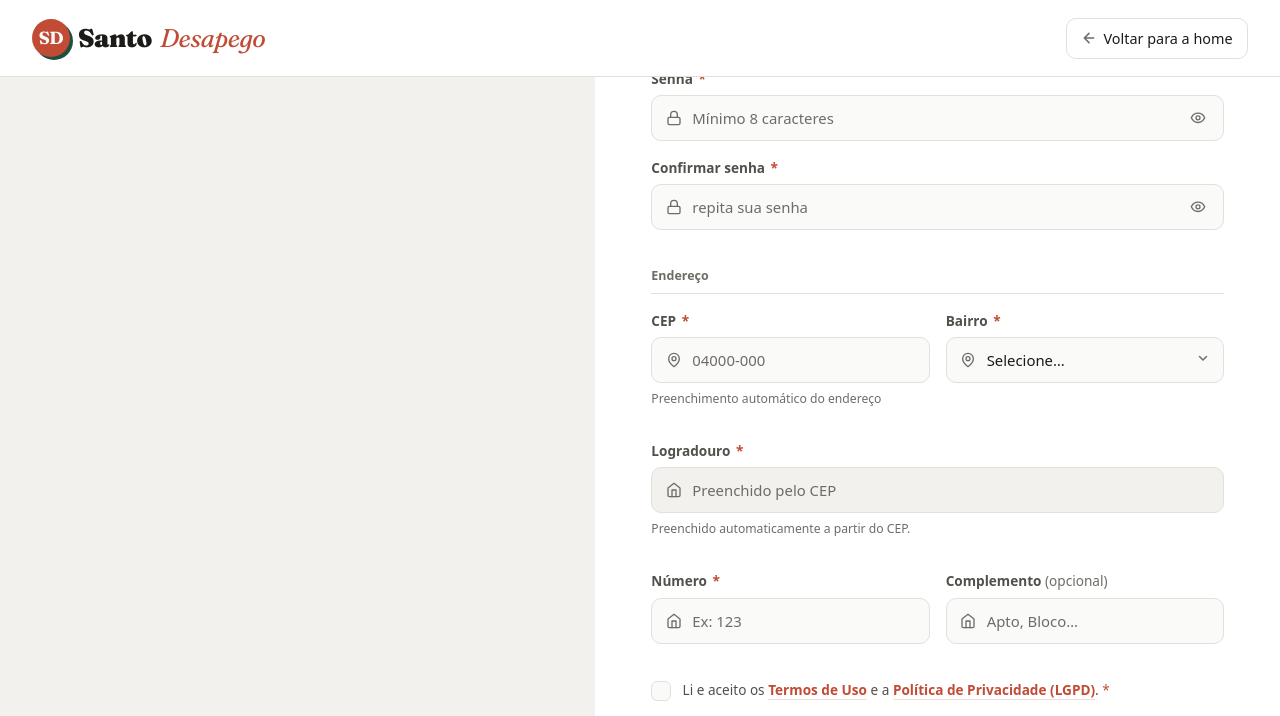
Test: RF01 - Gestão de Perfil Geográfico › CEP de Santo Amaro preenche o endereço e o bairro sozinho
(page scrolled)
Type "04710150" into the field with placeholder "04000-000" at (790, 360), box x1=651 y1=337 x2=930 y2=383
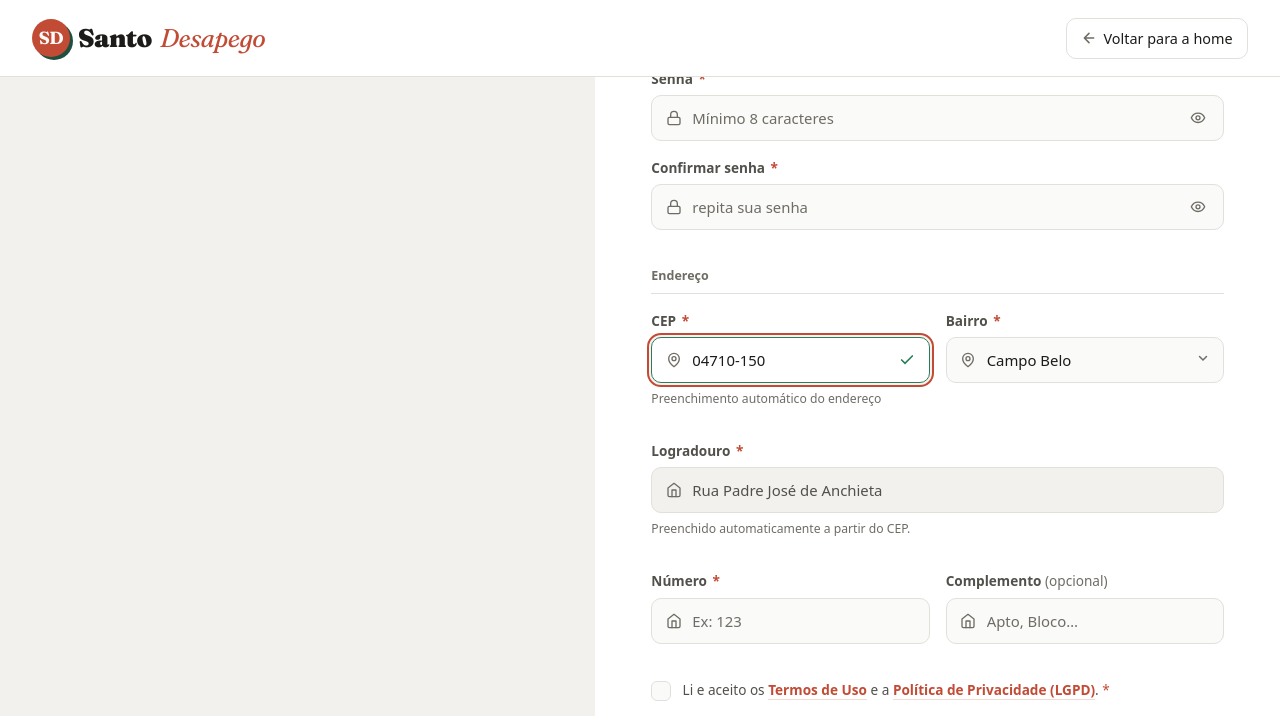
Result: the field labelled "Logradouro *" holds "Rua Padre José de Anchieta" at x1=651 y1=467 x2=1224 y2=513
Result: the dropdown shows "Campo Belo" at x1=946 y1=337 x2=1224 y2=383
Result: the field with placeholder "04000-000" holds "04710-150" at x1=651 y1=337 x2=930 y2=383
